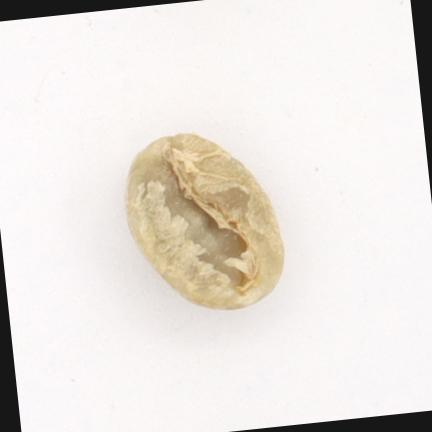immature: (126, 134, 284, 307)
